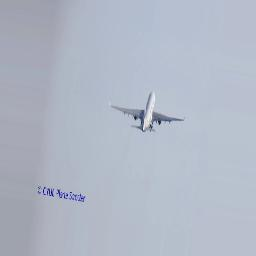Airplane: (110, 90, 185, 135)
